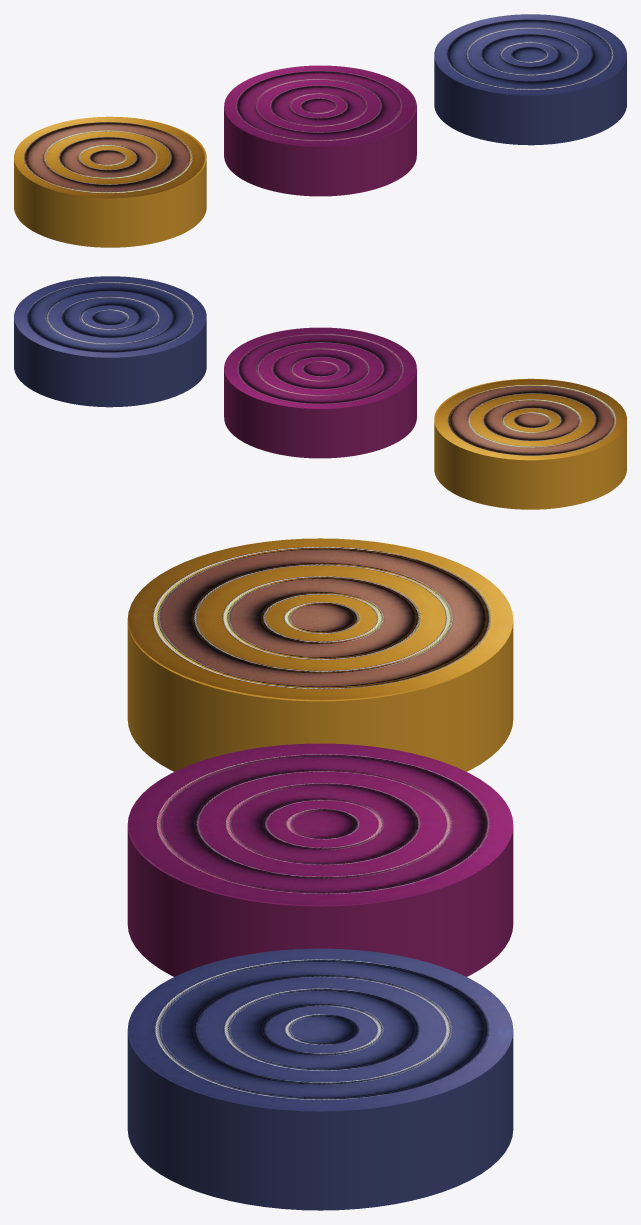
File: CoinsDesign2.fbx
3 views of the same model, one above another, from view 1: azimuth 30°, elevation 25°; view 2: azimuth 150°, elevation 25°; view 3: azimuth 270°, elevation 25° (orthographic). The views are drawn at different scales.
Parts seen in each view (by area): view 1: RedCoinDesign1, BlackCoinDesign1, WhiteCoinDesign1; view 2: RedCoinDesign1, BlackCoinDesign1, WhiteCoinDesign1; view 3: BlackCoinDesign1, WhiteCoinDesign1, RedCoinDesign1.
Part boxes in pixels (box(x1,y1,x2,y2)): RedCoinDesign1: box(224, 65, 416, 196); BlackCoinDesign1: box(434, 14, 626, 145); WhiteCoinDesign1: box(14, 116, 206, 247); RedCoinDesign1: box(224, 327, 416, 458); BlackCoinDesign1: box(14, 276, 206, 407); WhiteCoinDesign1: box(434, 378, 626, 509); BlackCoinDesign1: box(127, 948, 513, 1210); WhiteCoinDesign1: box(127, 538, 513, 771); RedCoinDesign1: box(127, 743, 513, 976).
Bounding box in the file's own units: 0.1118 × 0.009 × 0.0318.
